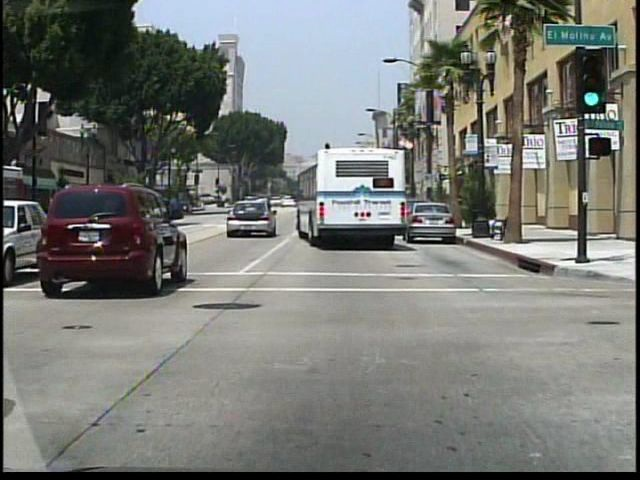person: (457, 190, 471, 227)
